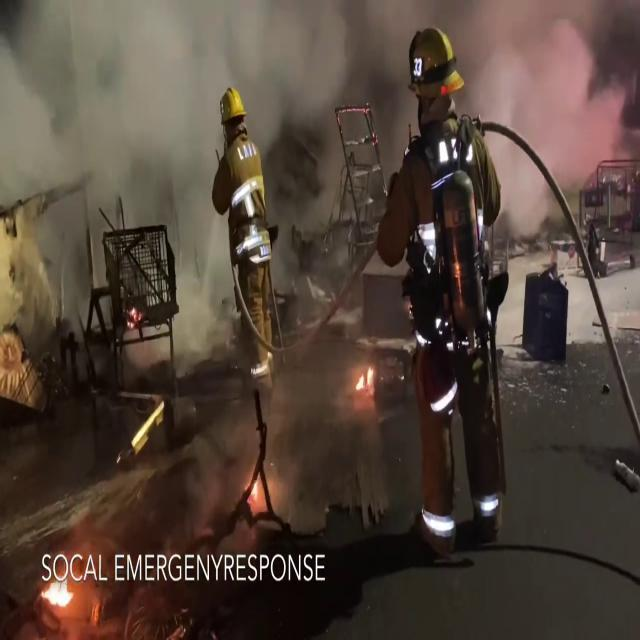Fire: (353, 356, 378, 404)
Smoke: (2, 0, 636, 235)
